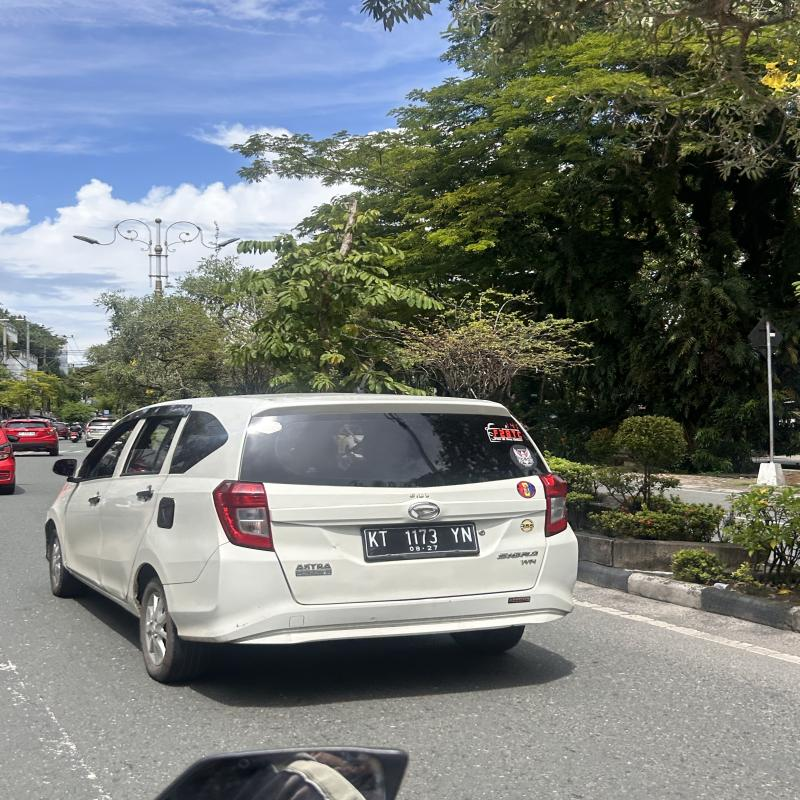license plate on a car: (363, 523, 479, 560)
